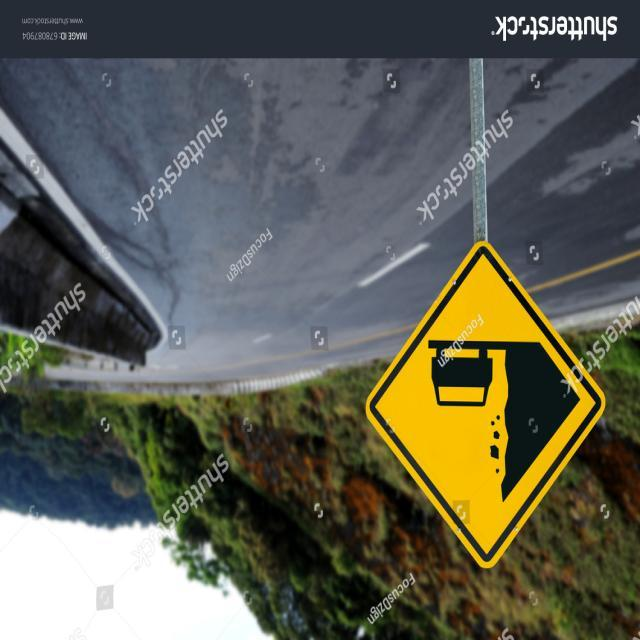Traffic sign: (364, 236, 610, 572)
